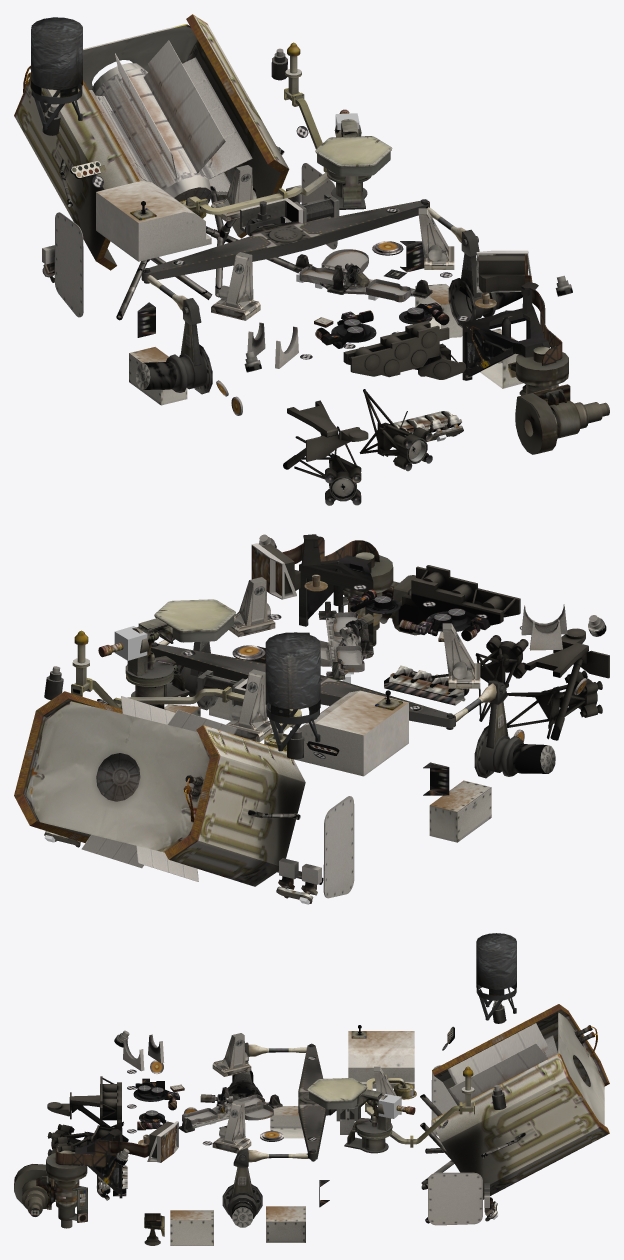
Rendered from MSL_dirty_mod_chassis_stuff.dae.
3 views of the same model, one above another, from view 1: azimuth 30°, elevation 25°; view 2: azimuth 150°, elevation 25°; view 3: azimuth 270°, elevation 25° (orthographic). The views are drawn at different scales.
Parts seen in each view (by area): view 1: stuff, RTG, suspension_xmember, antenna_UHF, OCM, arm_01, suspension_axel_R, antenna_HG_03, DAN_R, suspension_axel_L, SAM, HazCam_-_front (+4 smaller); view 2: stuff, RTG, antenna_UHF, OCM, suspension_xmember, suspension_axel_R, antenna_HG_03, DAN_R, HazCam_-_front, antenna_HG_01, SAM, HazCam_-_rear (+6 smaller); view 3: stuff, RTG, DAN_L, antenna_UHF, arm_01, suspension_xmember, antenna_HG_03, suspension_axel_L, OCM, antenna_HG_01, DAN_R, SAM (+6 smaller).
Boxes of the visible parts, bbox=[...] form: stuff: bbox=[14, 14, 572, 505]; RTG: bbox=[89, 40, 252, 202]; suspension_xmember: bbox=[141, 199, 429, 283]; antenna_UHF: bbox=[31, 17, 82, 129]; OCM: bbox=[343, 321, 465, 379]; arm_01: bbox=[515, 384, 609, 454]; suspension_axel_R: bbox=[136, 321, 212, 394]; antenna_HG_03: bbox=[315, 121, 392, 176]; DAN_R: bbox=[54, 212, 83, 317]; suspension_axel_L: bbox=[448, 253, 522, 327]; SAM: bbox=[315, 310, 376, 348]; HazCam_-_front: bbox=[389, 411, 462, 436]; stuff: bbox=[14, 534, 609, 886]; RTG: bbox=[81, 696, 237, 881]; antenna_UHF: bbox=[265, 632, 320, 751]; OCM: bbox=[395, 565, 520, 628]; suspension_xmember: bbox=[150, 642, 455, 729]; suspension_axel_R: bbox=[474, 701, 555, 778]; antenna_HG_03: bbox=[136, 599, 235, 643]; DAN_R: bbox=[323, 796, 354, 898]; HazCam_-_front: bbox=[384, 665, 468, 705]; antenna_HG_01: bbox=[98, 627, 173, 686]; SAM: bbox=[399, 611, 490, 641]; HazCam_-_rear: bbox=[45, 831, 321, 899]; stuff: bbox=[46, 1000, 609, 1245]; RTG: bbox=[447, 1023, 582, 1103]; DAN_L: bbox=[428, 1172, 482, 1225]; antenna_UHF: bbox=[476, 933, 516, 1020]; arm_01: bbox=[14, 1164, 79, 1228]; suspension_xmember: bbox=[298, 1043, 336, 1161]; antenna_HG_03: bbox=[307, 1078, 383, 1109]; suspension_axel_L: bbox=[222, 1167, 262, 1227]; OCM: bbox=[91, 1076, 121, 1142]; antenna_HG_01: bbox=[356, 1095, 415, 1139]; DAN_R: bbox=[431, 1065, 457, 1135]; SAM: bbox=[133, 1078, 179, 1110].
Size of the model in its own units: 1.74 by 3.04 by 1.19.
7 materials, 6 textured.
